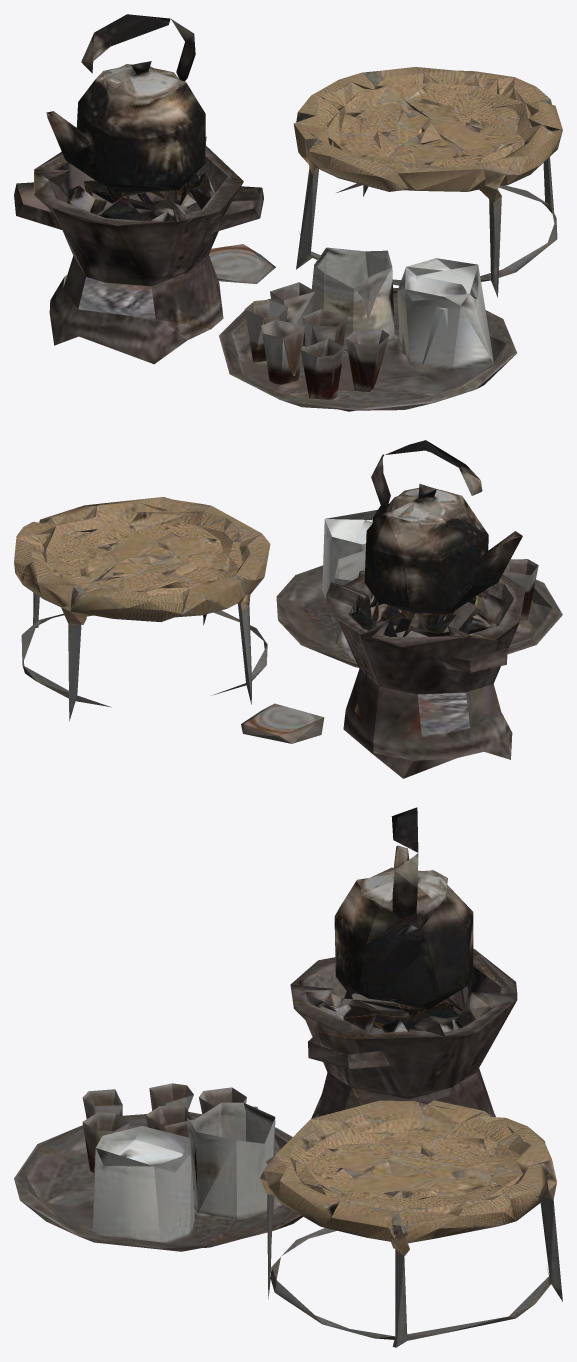
Rendered from teaset.glb.
The picture shows the model from 3 angles, top to bottom: view 1: azimuth 30°, elevation 25°; view 2: azimuth 150°, elevation 25°; view 3: azimuth 270°, elevation 25°; orthographic projection. The views are drawn at different scales.
Size of the model in its own units: 1.89 by 1.08 by 1.62.
Materials: 1 (1 with a texture image).
